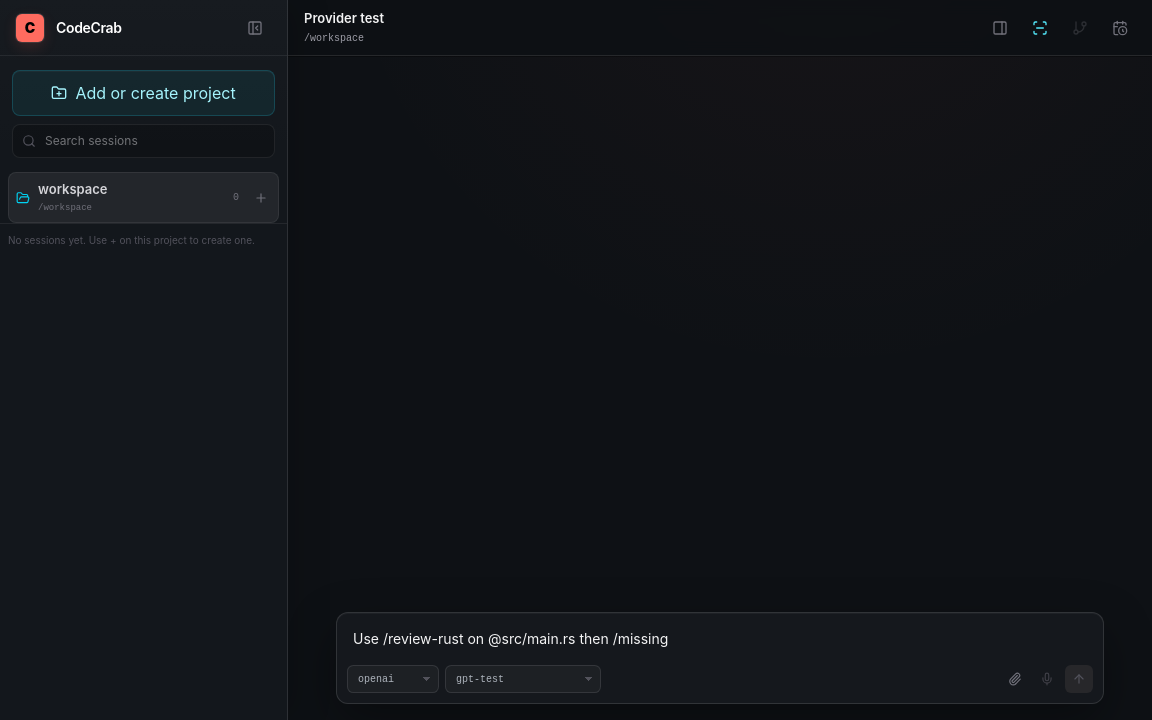
Test case: session provider selection › renders server-classified composer pills without changing the draft
Clear the field named "Message CodeCrab" at x=511, y=638, box [353,630,668,647]
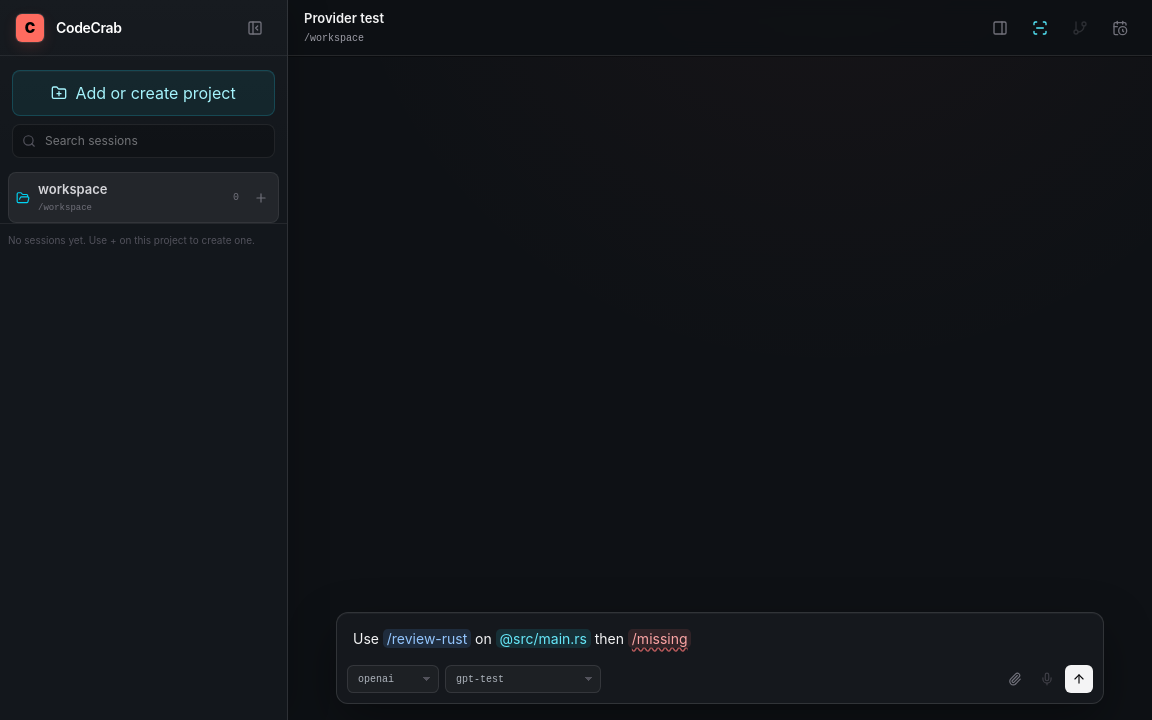
Result: the number of text boxes is 3 at [383,629,471,648]; [496,629,591,648]; [628,629,691,648]
